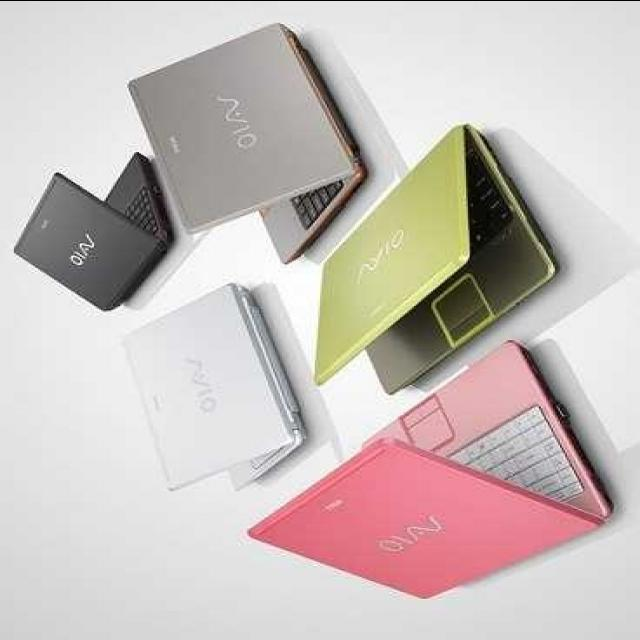laptop: (298, 390, 582, 640), (304, 191, 536, 401), (148, 59, 354, 232), (117, 319, 289, 489), (8, 174, 152, 308)
